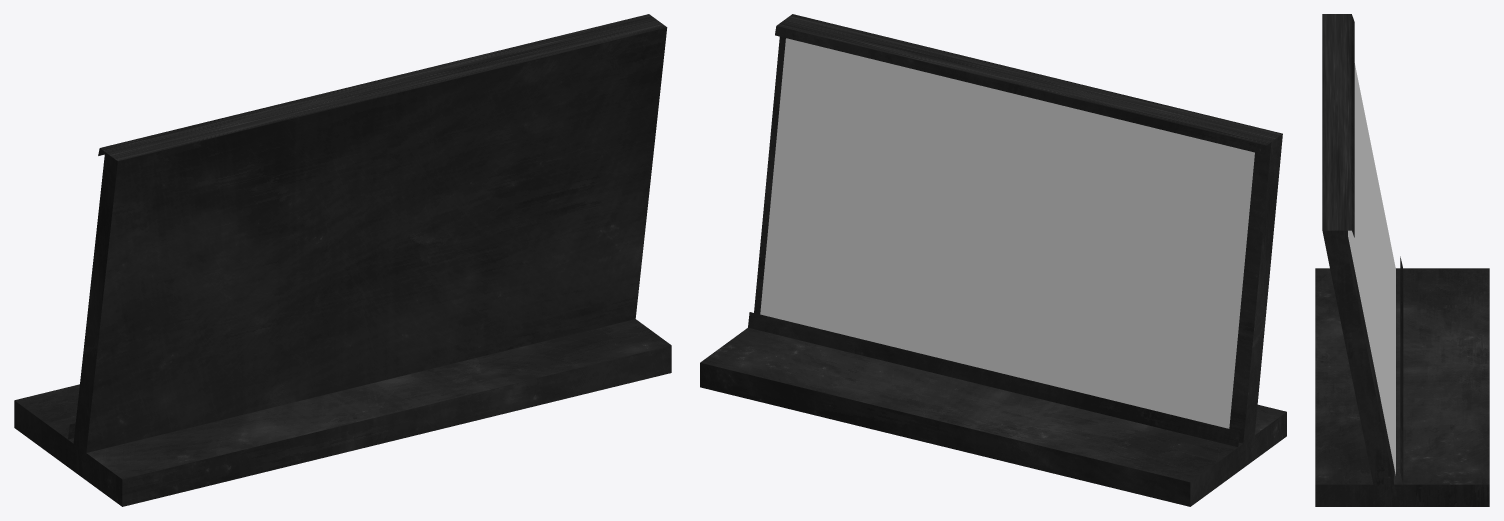
File: desk_name_plate.glb
3 renders of one model, left to right at view 1: azimuth 30°, elevation 25°; view 2: azimuth 150°, elevation 25°; view 3: azimuth 270°, elevation 25°, orthographic. The views are drawn at different scales.
Visible parts, largest first — view 1: NameStand; view 2: nameCard, NameStand; view 3: NameStand, nameCard.
Boxes of the visible parts, bbox=[...] form: NameStand: bbox=[14, 14, 671, 506]; nameCard: bbox=[760, 38, 1254, 428]; NameStand: bbox=[700, 14, 1286, 506]; NameStand: bbox=[1315, 14, 1489, 506]; nameCard: bbox=[1348, 63, 1395, 475].
Size of the model in its own units: 0.1339 by 0.0798 by 0.0457.
1 material, 1 textured.
